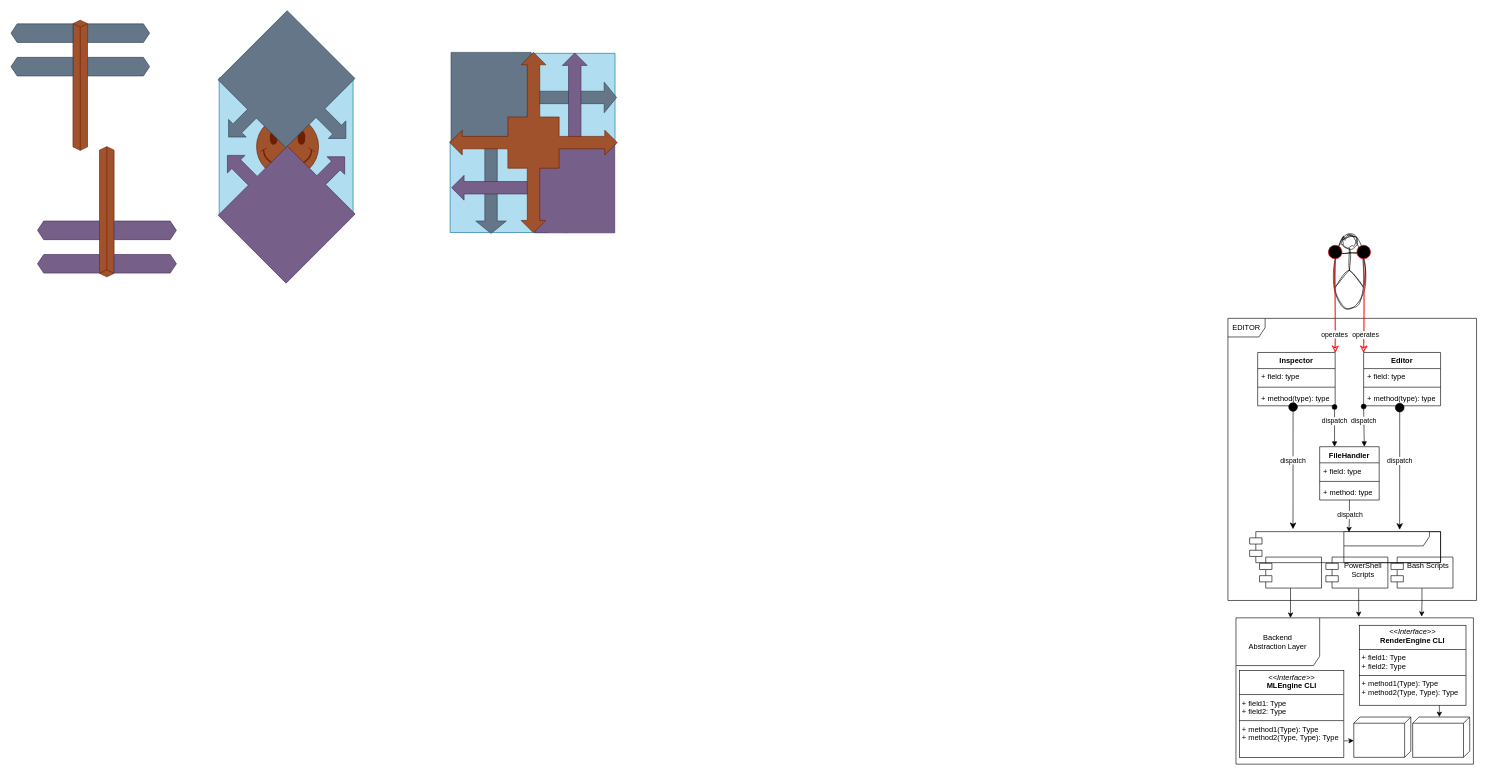
This 1487x776 diagram has some shape labels left out. The shapes that lost their labels are listed below. From the top down, each one's centre as x and y in pixels, then its label:
[1392,547]: Process Handler
[1290,572]: MacOS Scripts
[1382,736]: SCIPY
[1441,736]: OPENGL
